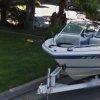Boat: (33, 16, 100, 80)
